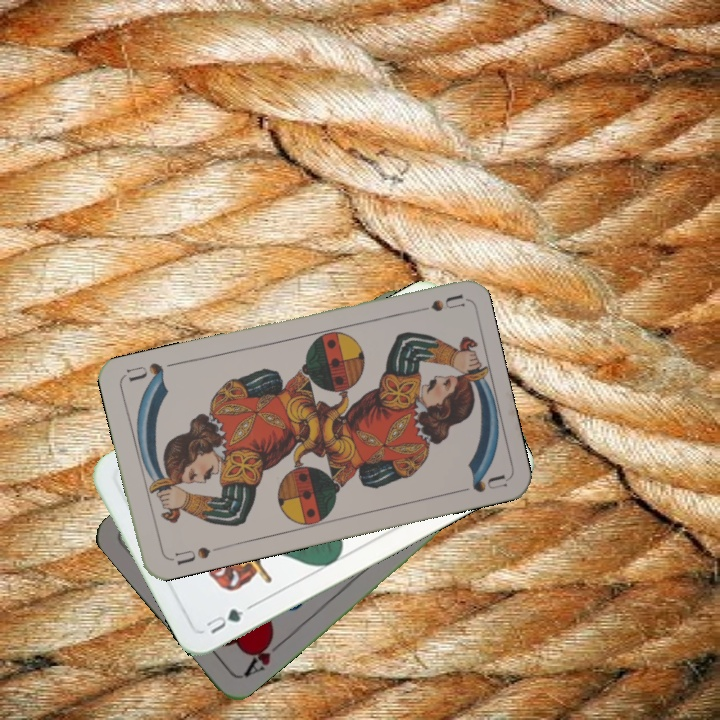GU: (202, 604, 247, 637)
HA: (239, 630, 286, 680)
SU: (406, 290, 465, 317), (165, 542, 224, 568)
